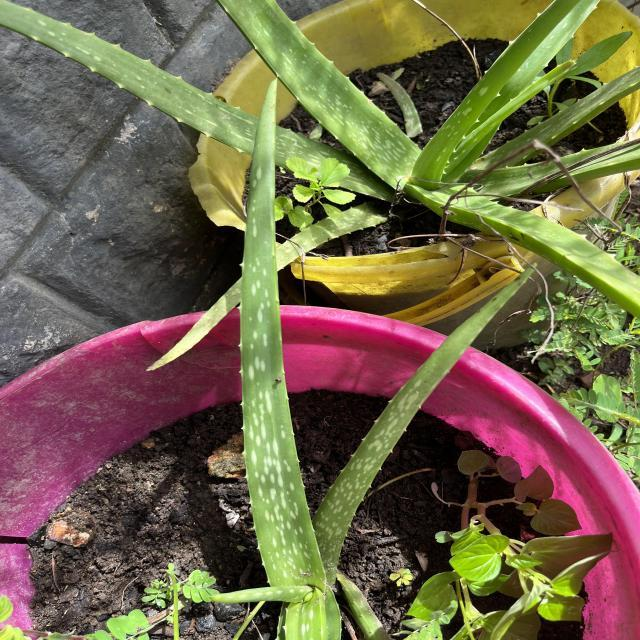Aloe vera: (229, 76, 339, 592)
